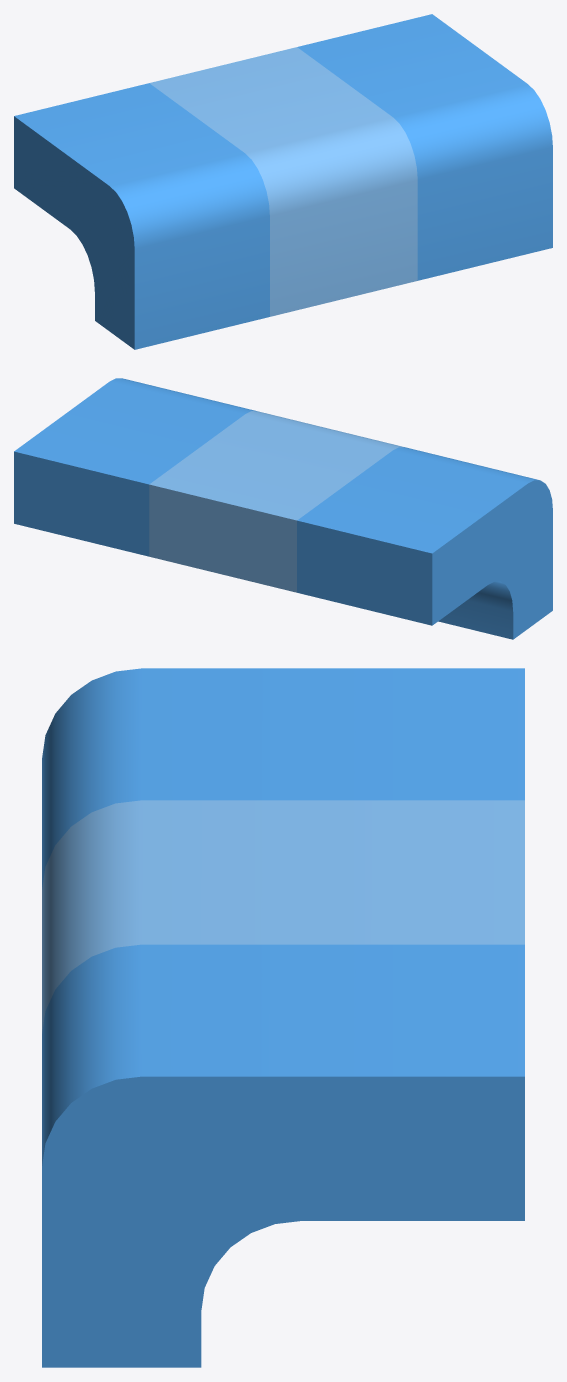
Rendered from Link B Blue L Type.fbx.
The picture shows the model from 3 angles, top to bottom: view 1: azimuth 30°, elevation 25°; view 2: azimuth 150°, elevation 25°; view 3: azimuth 270°, elevation 25°; orthographic projection. The views are drawn at different scales.
Parts seen in each view (by area): view 1: Link B Blue L Type; view 2: Link B Blue L Type; view 3: Link B Blue L Type.
Part boxes in pixels (<box>): Link B Blue L Type: <box>14,14,552,349</box>; Link B Blue L Type: <box>14,378,552,639</box>; Link B Blue L Type: <box>42,668,524,1367</box>.
Size of the model in its own units: 300 by 99.69 by 150.
